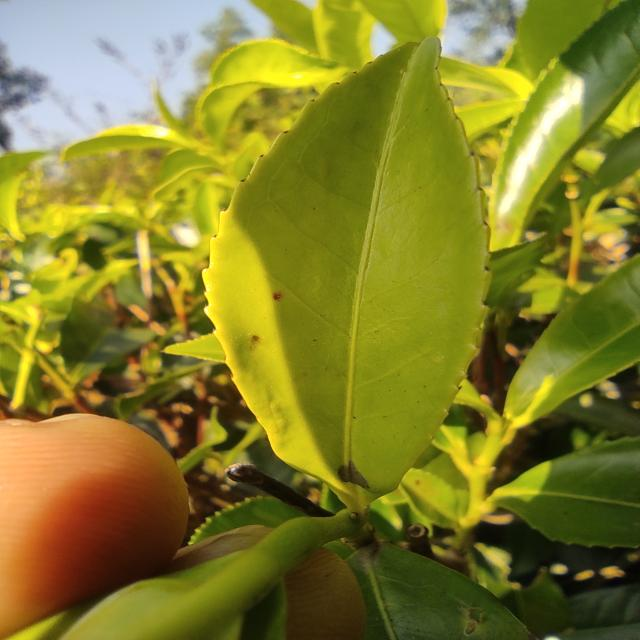Category C 4-7 days: (188, 22, 517, 543)
